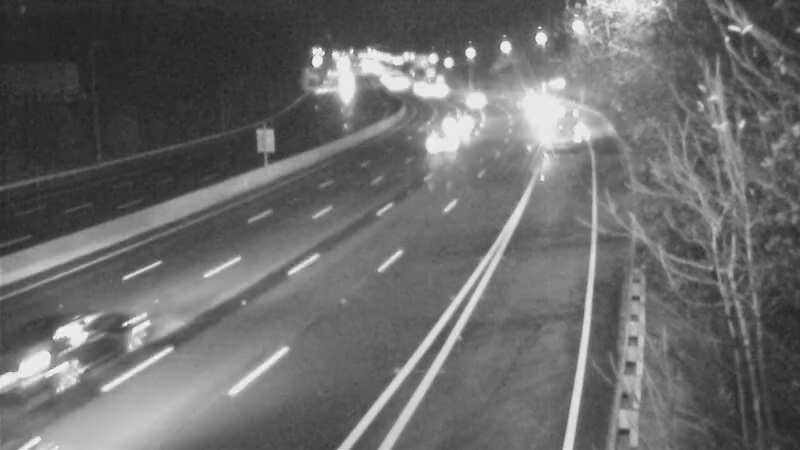vehicle: (1, 301, 106, 411), (505, 78, 555, 128), (443, 74, 493, 124), (440, 93, 490, 143), (417, 125, 467, 175), (526, 106, 576, 156)
